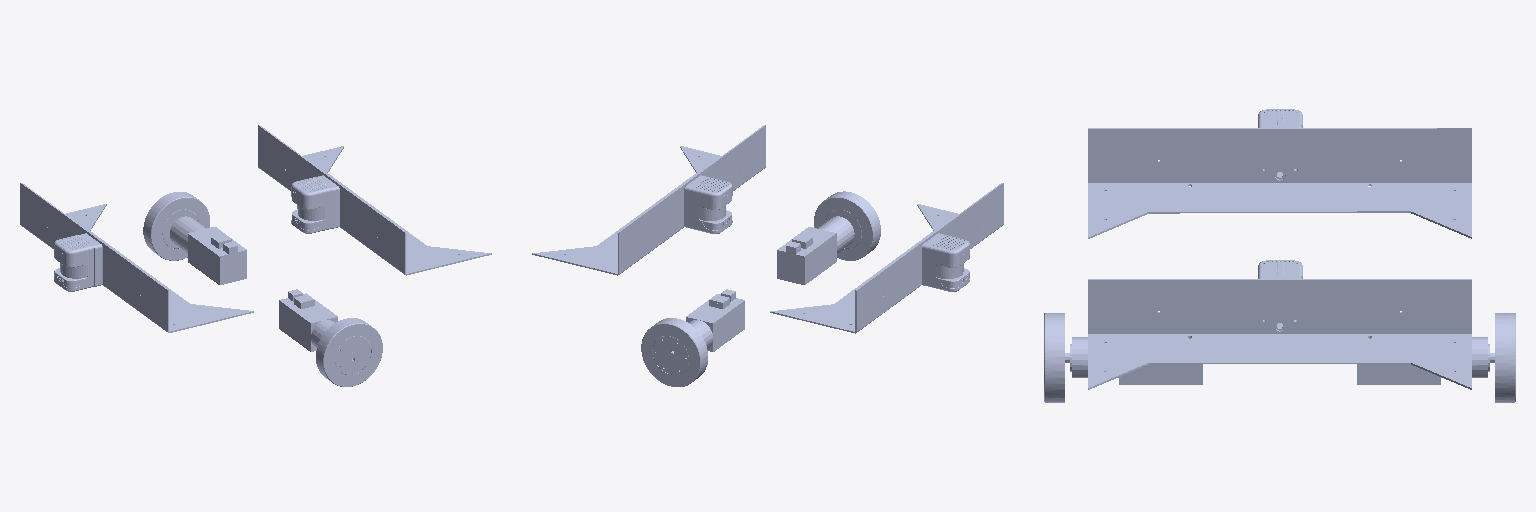
URDF robot description (ip200):
<?xml version="1.0" encoding="utf-8"?>
<!-- This URDF was automatically created by SolidWorks to URDF Exporter! Originally created by [author] ([email redacted]) 
     Commit Version: 1.6.0-1-g15f4949  Build Version: 1.6.7594.29634
     For more information, please see http://wiki.ros.org/sw_urdf_exporter -->
<robot
  name="ip200">
  <link name="base_footprint"/>

  <joint name="base_joint" type="fixed">
    <parent link="base_footprint"/>
    <child link="base_link" />
    <!-- <origin xyz="0 0 0.0335" rpy="0 0 0"/> -->
    <origin xyz="0 0 0.0335" rpy="0 0 0"/>
  </joint>

  <link
    name="base_link">
    <inertial>
      <origin
        xyz="-8.074233413775E-05 0.00167010666358344 0.253055984044282"
        rpy="0 0 0" />
      <mass
        value="19.2341768436338" />
      <inertia
        ixx="0.73131577307895"
        ixy="0.00084688488709123"
        ixz="0.00164494760727376"
        iyy="0.724104006445325"
        iyz="-5.57752444312045E-05"
        izz="1.39581073958625" />
    </inertial>
    <visual>
      <origin
        xyz="0 0 0"
        rpy="0 0 0" />
      <geometry>
        <mesh
          filename="package://ip200_description/meshes/rw_description.STL" />
      </geometry>
      <material
        name="">
        <color
          rgba="0.792156862745098 0.819607843137255 0.933333333333333 1" />
      </material>
    </visual>
    <collision>
      <origin
        xyz="0 0 0"
        rpy="0 0 0" />
      <geometry>
        <mesh
          filename="package://ip200_description/meshes/rw_description.STL" />
      </geometry>
    </collision>
  </link>
  <link
    name="l_rear_wheel">
    <inertial>
      <origin
        xyz="3.60441696500543E-06 -0.0923002305760895 0.000587940142489175"
        rpy="0 0 0" />
      <mass
        value="1.04815459938863" />
      <inertia
        ixx="0.00261088701633814"
        ixy="1.31102007184665E-08"
        ixz="-3.81505861905977E-08"
        iyy="0.00121500177792377"
        iyz="3.58019706903565E-05"
        izz="0.00258940454618749" />
    </inertial>
    <visual>
      <origin
        xyz="0 0 0"
        rpy="0 0 0" />
      <geometry>
        <mesh
          filename="package://ip200_description/meshes/l_rear_wheel.STL" />
      </geometry>
      <material
        name="">
        <color
          rgba="0.792156862745098 0.819607843137255 0.933333333333333 1" />
      </material>
    </visual>
    <collision>
      <origin
        xyz="0 0 0"
        rpy="0 0 0" />
      <geometry>
        <mesh
          filename="package://ip200_description/meshes/l_rear_wheel.STL" />
      </geometry>
    </collision>
  </link>
  <joint
    name="l_rear_wheel"
    type="continuous">
    <origin
      xyz="0 0.3405 0.0649999999999999"
      rpy="0 0 0" />
    <parent
      link="base_link" />
    <child
      link="l_rear_wheel" />
    <axis
      xyz="0 -1 0" />
  </joint>
  <link
    name="r_rear_wheel">
    <inertial>
      <origin
        xyz="-1.93085150211863E-07 0.0922981752597209 0.000601150921649272"
        rpy="0 0 0" />
      <mass
        value="1.04812748709294" />
      <inertia
        ixx="0.00261080454514841"
        ixy="1.80765553467149E-08"
        ixz="8.41125092686639E-09"
        iyy="0.00121496443053289"
        iyz="-3.57478245635109E-05"
        izz="0.0025893893403154" />
    </inertial>
    <visual>
      <origin
        xyz="0 0 0"
        rpy="0 0 0" />
      <geometry>
        <mesh
          filename="package://ip200_description/meshes/r_rear_wheel.STL" />
      </geometry>
      <material
        name="">
        <color
          rgba="0.792156862745098 0.819607843137255 0.933333333333333 1" />
      </material>
    </visual>
    <collision>
      <origin
        xyz="0 0 0"
        rpy="0 0 0" />
      <geometry>
        <mesh
          filename="package://ip200_description/meshes/r_rear_wheel.STL" />
      </geometry>
    </collision>
  </link>
  <joint
    name="r_rear_wheel"
    type="continuous">
    <origin
      xyz="0 -0.3405 0.0649999999996"
      rpy="0 0 0" />
    <parent
      link="base_link" />
    <child
      link="r_rear_wheel" />
    <axis
      xyz="0 1 0" />
  </joint>
  <link
    name="rear_lidar">
    <inertial>
      <origin
        xyz="-0.4055605350155 -6.19753136898854E-05 -0.0147536372771876"
        rpy="0 0 0" />
      <mass
        value="0.385651153728386" />
      <inertia
        ixx="0.00973637361531699"
        ixy="-4.55675275538205E-11"
        ixz="-0.000217121449304545"
        iyy="0.000870251294406086"
        iyz="1.24939133642565E-11"
        izz="0.00999879780357618" />
    </inertial>
    <visual>
      <origin
        xyz="0 0 0"
        rpy="0 0 0" />
      <geometry>
        <mesh
          filename="package://ip200_description/meshes/front_lidar.STL" />
      </geometry>
      <material
        name="">
        <color
          rgba="0.792156862745098 0.819607843137255 0.933333333333333 1" />
      </material>
    </visual>
    <collision>
      <origin
        xyz="0 0 0"
        rpy="0 0 0" />
      <geometry>
        <mesh
          filename="package://ip200_description/meshes/front_lidar.STL" />
      </geometry>
    </collision>
  </link>
  <joint
    name="rear_lidar"
    type="fixed">
    <origin
      xyz="-0.4055605350155 0 0.2092511729546"
      rpy="0 0 -3.14" />
    <parent
      link="base_link" />
    <child
      link="rear_lidar" />
    <axis
      xyz="0 0 1" />
  </joint>

  <link
    name="front_lidar">
    <inertial>
      <origin
        xyz="0.1111605350155 6.19753136896356E-05 -0.0147536372771875"
        rpy="0 0 0" />
      <mass
        value="0.385651153728386" />
      <inertia
        ixx="0.00973637361531705"
        ixy="-4.55675265329909E-11"
        ixz="0.000217099148045366"
        iyy="0.000870212405273177"
        iyz="-1.2493916469303E-11"
        izz="0.00999875891444332" />
    </inertial>
    <visual>
      <origin
        xyz="0 0 0"
        rpy="0 0 0" />
      <geometry>
        <mesh
          filename="package://ip200_description/meshes/rear_lidar.STL" />
      </geometry>
      <material
        name="">
        <color
          rgba="0.792156862745098 0.819607843137255 0.933333333333333 1" />
      </material>
    </visual>
    <collision>
      <origin
        xyz="0 0 0"
        rpy="0 0 0" />
      <geometry>
        <mesh
          filename="package://ip200_description/meshes/rear_lidar.STL" />
      </geometry>
    </collision>
  </link>

  <joint
    name="front_lidar"
    type="fixed">
    <origin
      xyz="0.1111605350155 0 0.2092511729546"
      rpy="0 0 0" />
    <parent
      link="base_link" />
    <child
      link="front_lidar" />
    <axis
      xyz="0 0 1" />
  </joint>
</robot>

--- What the picture shows (computed from the rendered views, not written in the file) ---
The picture shows the robot from 3 angles, left to right: view 1: azimuth 30°, elevation 25°; view 2: azimuth 150°, elevation 25°; view 3: azimuth 270°, elevation 25°; orthographic projection.
Model ip200 with 6 links and 5 joints (2 continuous, 3 fixed), rooted at base_footprint, posed all joints at 0.
Visible links, largest first — view 1: rear_lidar, front_lidar, r_rear_wheel, l_rear_wheel; view 2: rear_lidar, front_lidar, l_rear_wheel, r_rear_wheel; view 3: rear_lidar, front_lidar, l_rear_wheel, r_rear_wheel.
Link boxes in pixels (left/top/right/bottom): rear_lidar: left=20, top=183, right=253, bottom=332; front_lidar: left=258, top=125, right=491, bottom=275; r_rear_wheel: left=279, top=289, right=382, bottom=386; l_rear_wheel: left=143, top=192, right=246, bottom=284; rear_lidar: left=770, top=183, right=1003, bottom=333; front_lidar: left=532, top=125, right=765, bottom=275; l_rear_wheel: left=641, top=289, right=744, bottom=386; r_rear_wheel: left=777, top=191, right=880, bottom=284; rear_lidar: left=1088, top=109, right=1471, bottom=238; front_lidar: left=1088, top=260, right=1471, bottom=389; l_rear_wheel: left=1357, top=313, right=1515, bottom=402; r_rear_wheel: left=1044, top=313, right=1202, bottom=402.
Size in the robot's own frame: 0.7802 by 0.681 by 0.2605 metres.
Meshes: 5 distinct files referenced, 4 mesh visuals loaded (4 binary STL); not drawn: 1 (reference not matched to a file when rendering).
